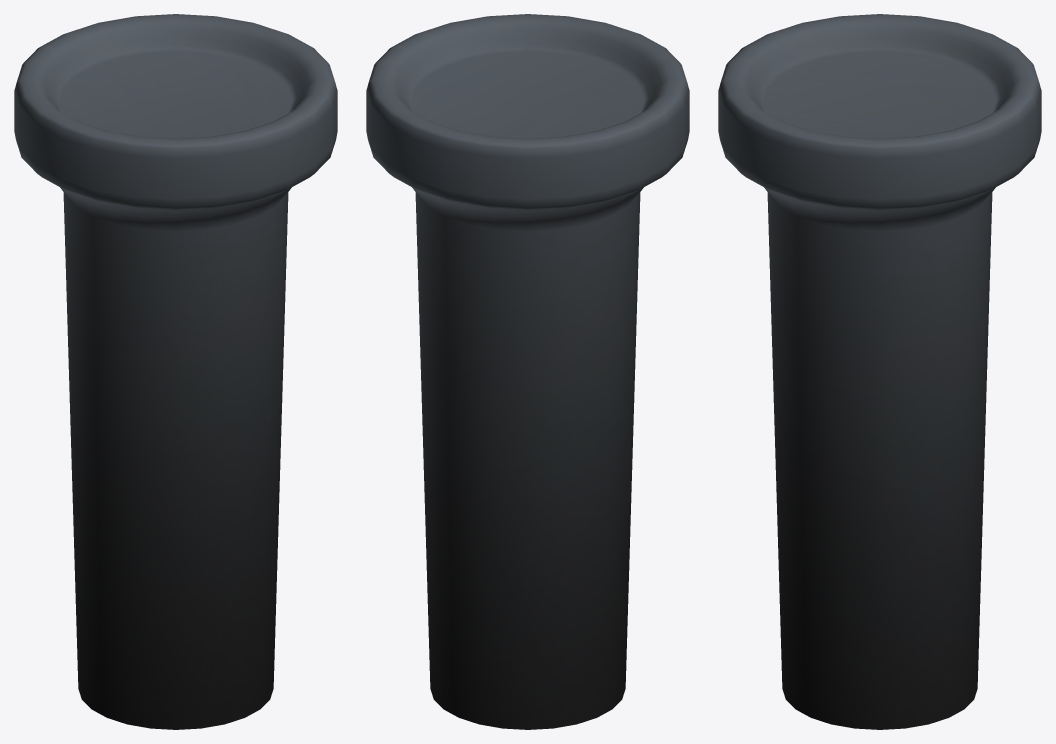
File: Platform005.fbx
3 renders of one model, left to right at view 1: azimuth 30°, elevation 25°; view 2: azimuth 150°, elevation 25°; view 3: azimuth 270°, elevation 25°, orthographic.
Parts seen in each view (by area): view 1: Platform4; view 2: Platform4; view 3: Platform4.
Part boxes in pixels (left/top/right/bottom): Platform4: left=14, top=14, right=337, bottom=729; Platform4: left=366, top=14, right=689, bottom=729; Platform4: left=718, top=14, right=1041, bottom=729.
Size of the model in its own units: 154 by 321 by 154.
